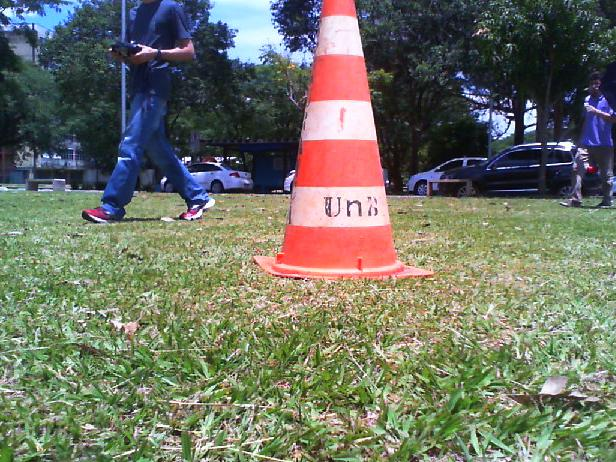0 cone: (253, 0, 435, 276)
